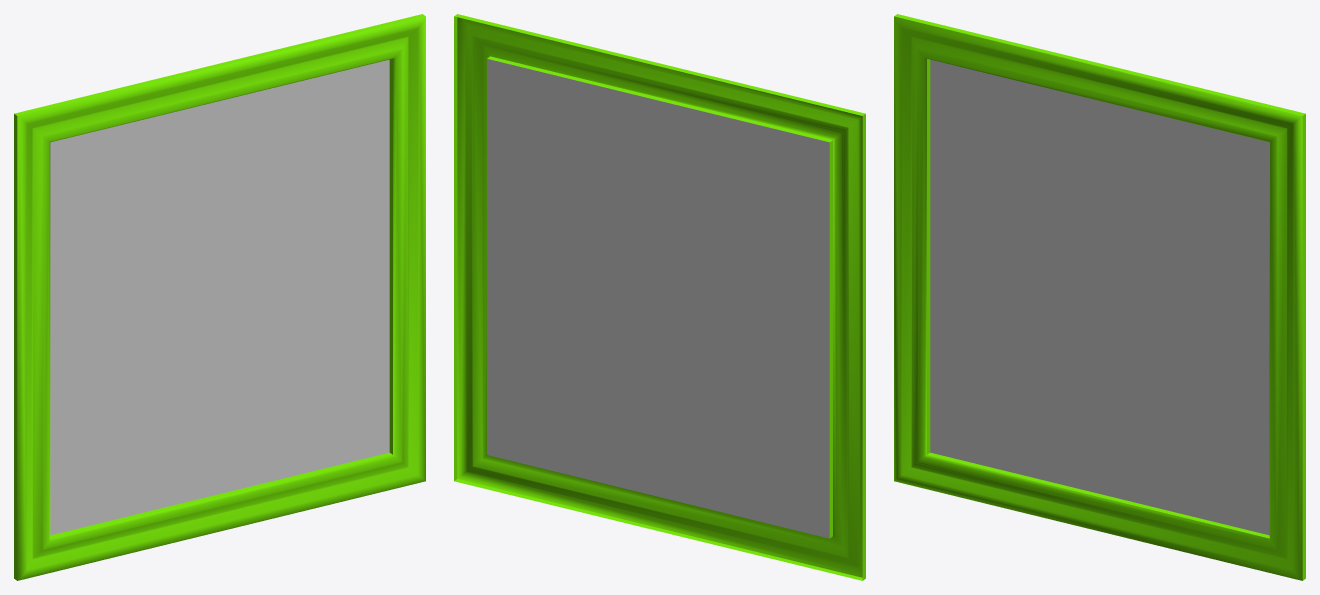
Rendered from painting_18_mesh.fbx.
The picture shows the model from 3 angles, left to right: view 1: azimuth 30°, elevation 25°; view 2: azimuth 150°, elevation 25°; view 3: azimuth 330°, elevation 25°; orthographic projection.
Visible parts, largest first — view 1: painting; view 2: painting; view 3: painting.
Part boxes in pixels (x1=…): painting: x1=14, y1=14, x2=425, y2=580; painting: x1=454, y1=14, x2=865, y2=580; painting: x1=894, y1=14, x2=1305, y2=580.
Bounding box in the file's own units: 1.08 × 1.17 × 0.02.
